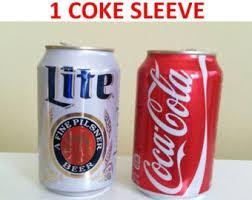Aluminum can: (129, 35, 240, 200), (36, 33, 124, 200)
